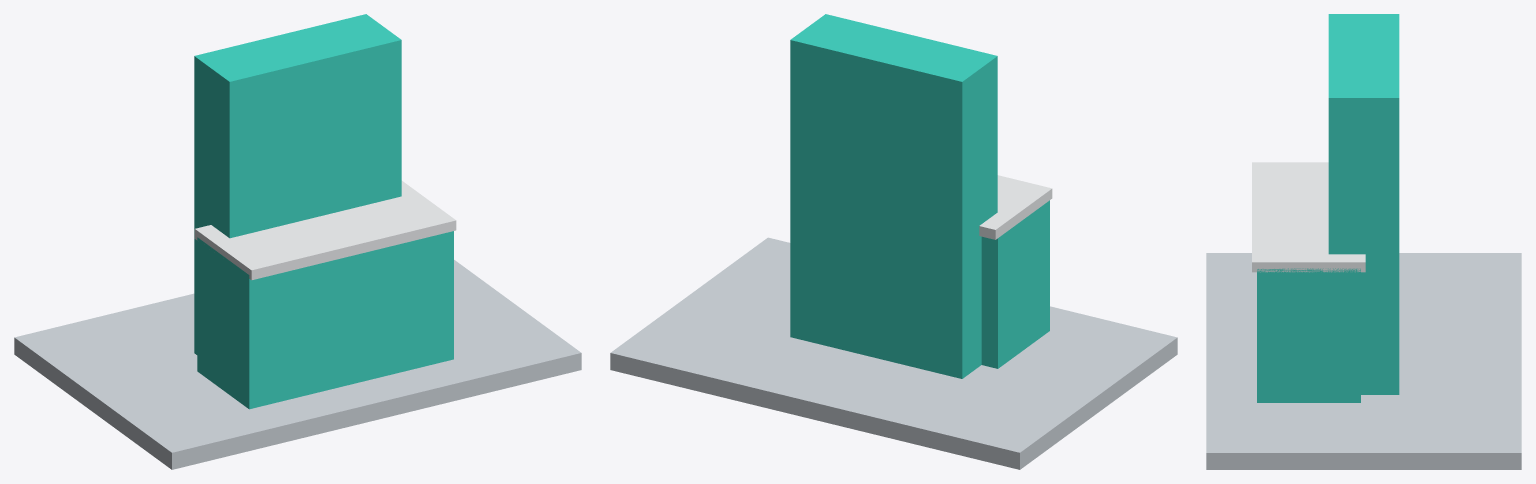
3 views of the same model, side by side, from view 1: azimuth 30°, elevation 25°; view 2: azimuth 150°, elevation 25°; view 3: azimuth 270°, elevation 25° (orthographic).
Parts seen in each view (by area): view 1: Exhibition Booth Concept; view 2: Exhibition Booth Concept; view 3: Exhibition Booth Concept.
Part boxes in pixels (x1,y1,x2,y2): Exhibition Booth Concept: [14, 14, 581, 469]; Exhibition Booth Concept: [610, 14, 1177, 469]; Exhibition Booth Concept: [1206, 14, 1521, 469].
Bounding box in the file's own units: 3 × 2.2 × 2.
